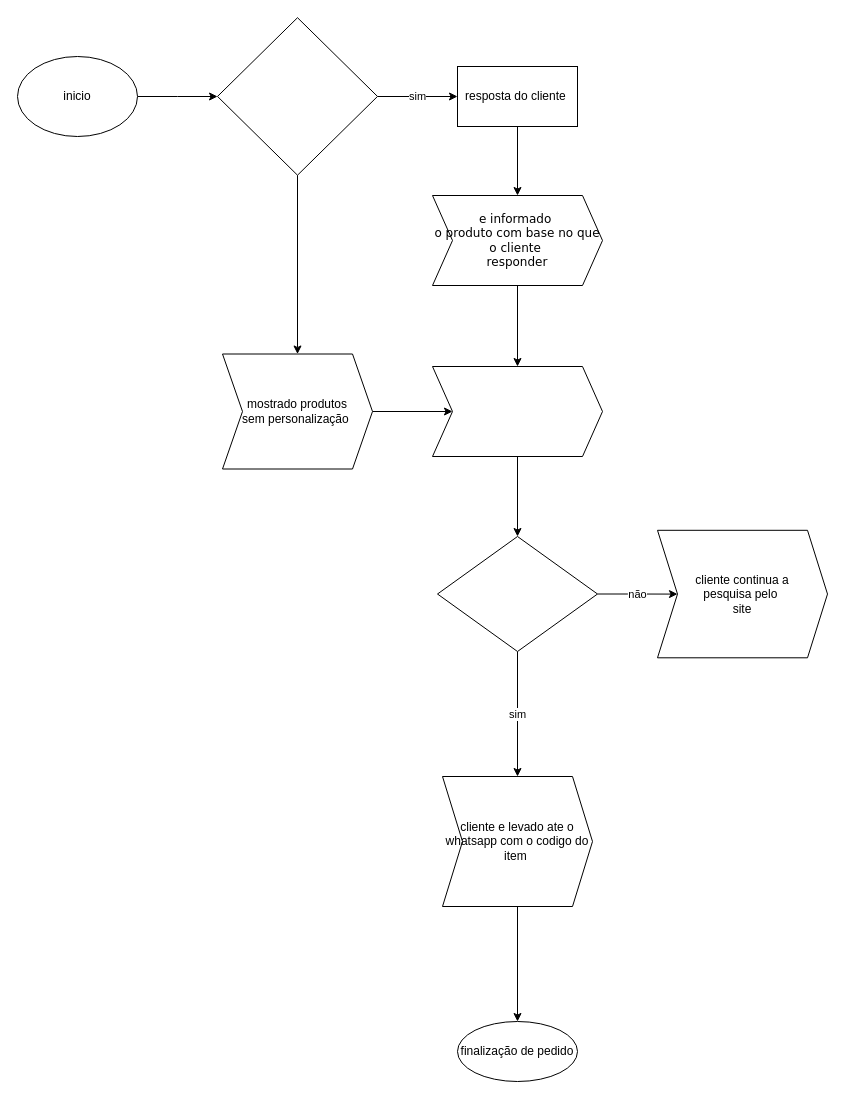
Image size: 845x1099. Some labels were removed from this diagram. Here are the shapes that lost their labels. From the top down, the centre of each, then its label:
pixel 297 96: cliente coloca nome idade e estilo que gosta sim ou não
pixel 517 411: cliente seleciona o produto
pixel 517 594: efetuar o pedido sim ou não ?
